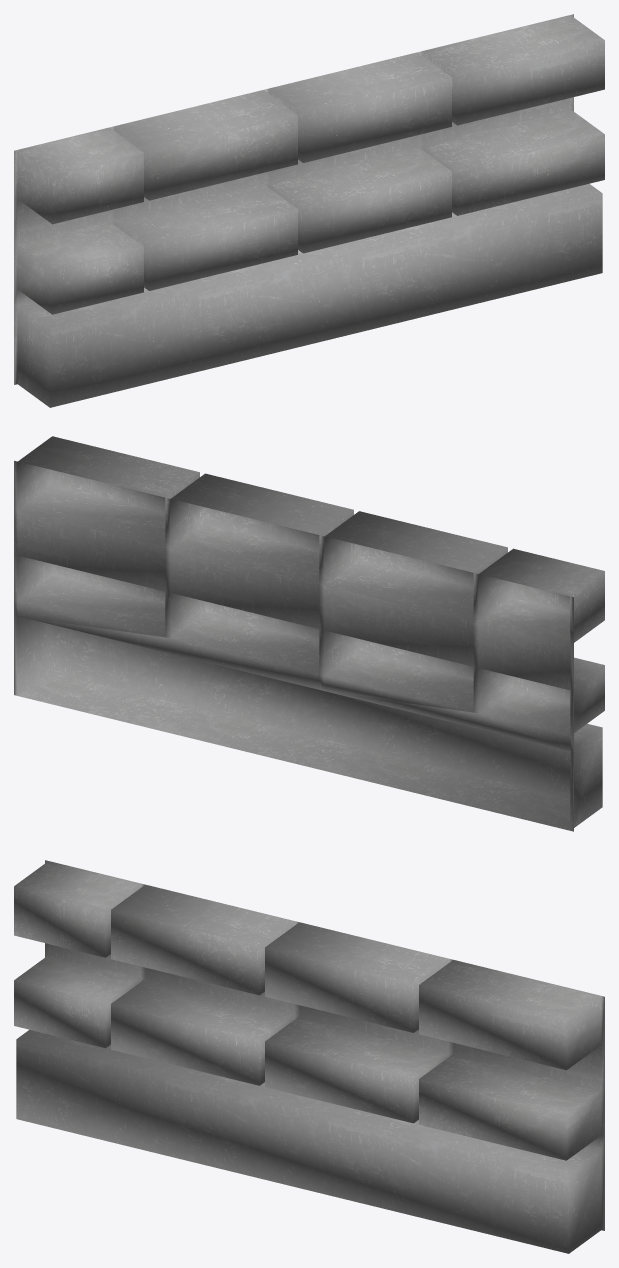
File: tribune_vertical.fbx
The picture shows the model from 3 angles, top to bottom: view 1: azimuth 30°, elevation 25°; view 2: azimuth 150°, elevation 25°; view 3: azimuth 330°, elevation 25°; orthographic projection.
Visible parts, largest first — view 1: Cube; view 2: Cube; view 3: Cube.
Boxes of the visible parts, left/top/right/bottom form: Cube: left=14, top=14, right=604, bottom=407; Cube: left=14, top=436, right=604, bottom=831; Cube: left=14, top=860, right=604, bottom=1253.
Bounding box in the file's own units: 30 × 12 × 3.21.
